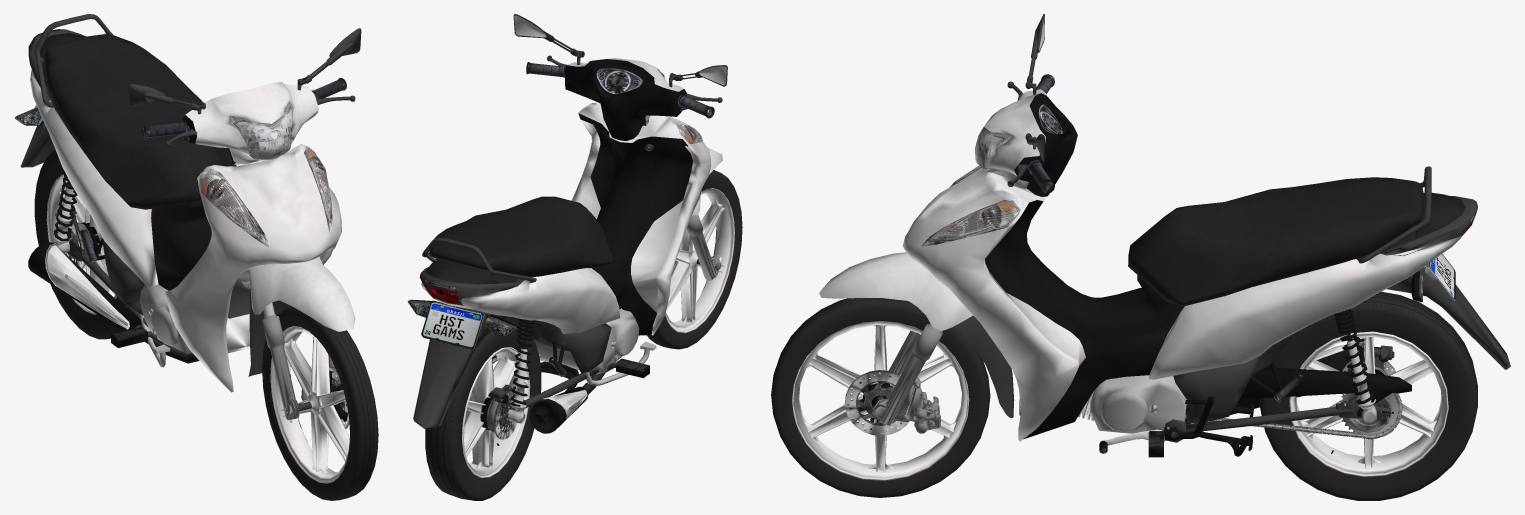
The model's file is HandoTwixUnified.fbx.
3 views of the same model, side by side, from view 1: azimuth 30°, elevation 25°; view 2: azimuth 150°, elevation 25°; view 3: azimuth 270°, elevation 25° (orthographic). The views are drawn at different scales.
Visible parts, largest first — view 1: HandoTwixUnified, HandoTwixBody, HandoTwixFrontWheel, HandoTwixRearWheel; view 2: HandoTwixUnified, HandoTwixBody, HandoTwixFrontWheel, HandoTwixRearWheel; view 3: HandoTwixUnified, HandoTwixBody, HandoTwixFrontWheel, HandoTwixRearWheel.
Boxes of the visible parts, bbox=[...] form: HandoTwixUnified: bbox=[14, 14, 378, 500]; HandoTwixBody: bbox=[30, 69, 355, 392]; HandoTwixFrontWheel: bbox=[270, 326, 349, 483]; HandoTwixRearWheel: bbox=[46, 174, 116, 314]; HandoTwixUnified: bbox=[407, 14, 742, 500]; HandoTwixBody: bbox=[421, 58, 722, 335]; HandoTwixFrontWheel: bbox=[665, 188, 734, 333]; HandoTwixRearWheel: bbox=[462, 347, 530, 478]; HandoTwixUnified: bbox=[771, 14, 1510, 500]; HandoTwixBody: bbox=[819, 89, 1462, 441]; HandoTwixFrontWheel: bbox=[792, 321, 969, 480]; HandoTwixRearWheel: bbox=[1289, 331, 1448, 476].
Bounding box in the file's own units: 0.7507 × 1.18 × 1.89.
